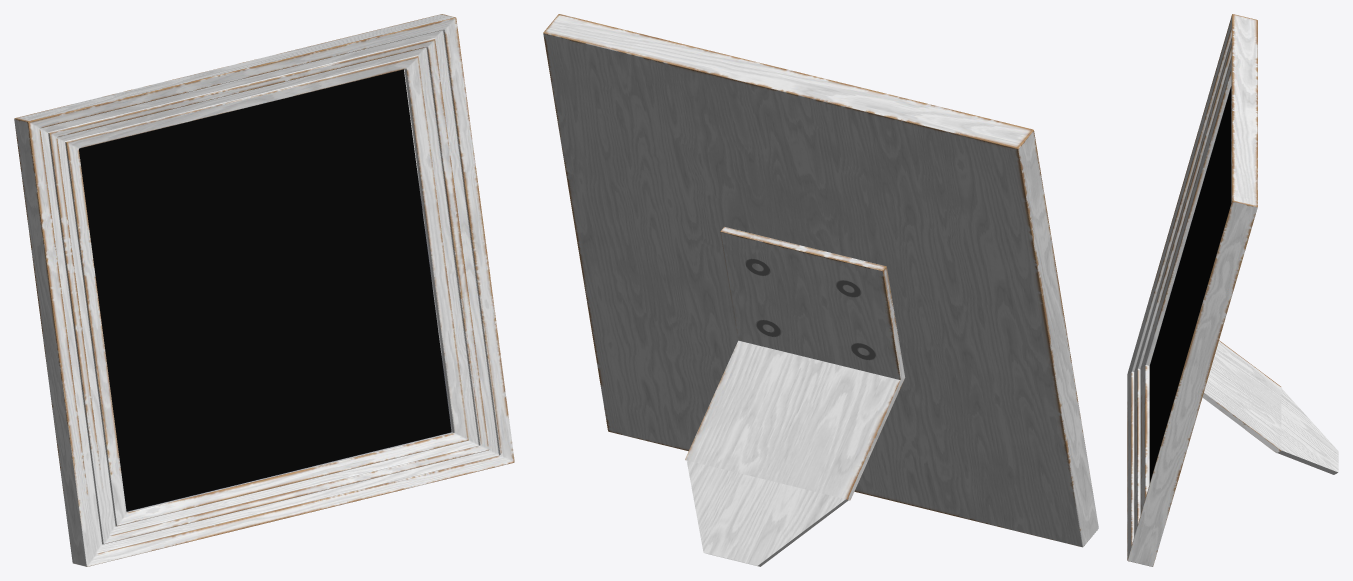
The model's file is printFrame1.glb.
3 views of the same model, side by side, from view 1: azimuth 30°, elevation 25°; view 2: azimuth 150°, elevation 25°; view 3: azimuth 270°, elevation 25° (orthographic). The views are drawn at different scales.
Parts seen in each view (by area): view 1: SM_Frame_M_Frame_0; view 2: SM_Frame_M_Frame_0; view 3: SM_Frame_M_Frame_0.
Boxes of the visible parts, x1=… form: SM_Frame_M_Frame_0: x1=14, y1=14, x2=514, y2=566; SM_Frame_M_Frame_0: x1=543, y1=14, x2=1098, y2=566; SM_Frame_M_Frame_0: x1=1127, y1=14, x2=1338, y2=566.
Bounding box in the file's own units: 1.32 × 1.2 × 0.6275.
Materials: 2 (2 with a texture image).
